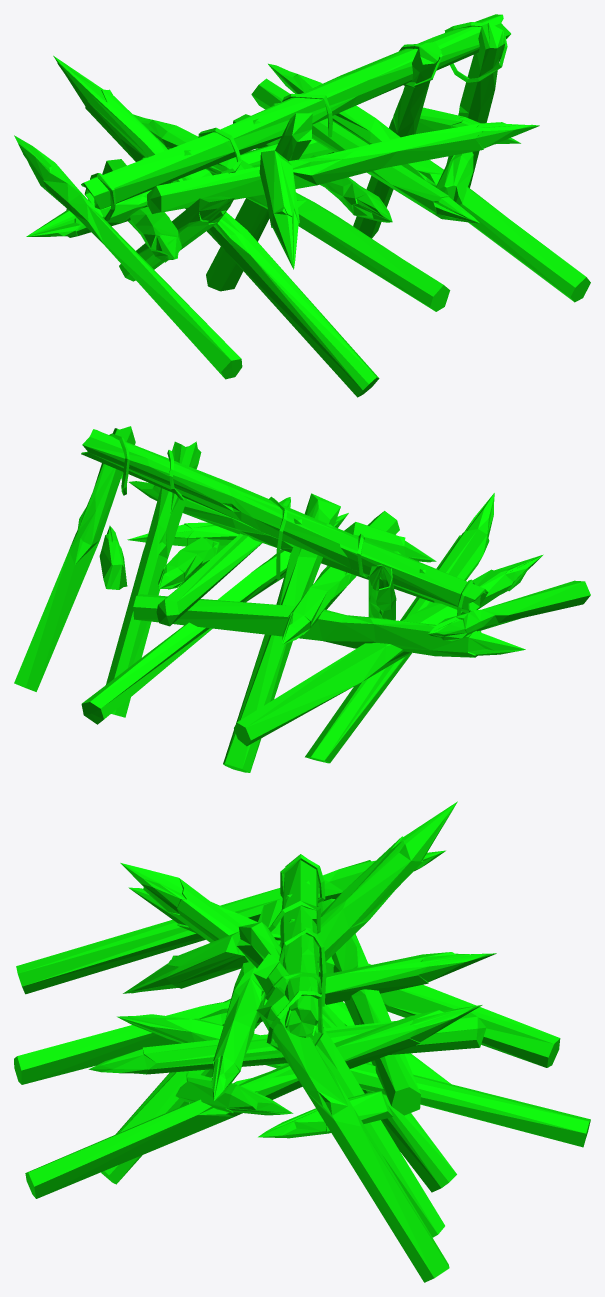
Rendered from SM_Barricade_A_Broken.fbx.
3 renders of one model, top to bottom at view 1: azimuth 30°, elevation 25°; view 2: azimuth 150°, elevation 25°; view 3: azimuth 270°, elevation 25°, orthographic. The views are drawn at different scales.
Parts seen in each view (by area): view 1: barricade-a-broken; view 2: barricade-a-broken; view 3: barricade-a-broken.
Boxes of the visible parts, <box> form: barricade-a-broken: <box>14,14,590,397</box>; barricade-a-broken: <box>14,426,590,772</box>; barricade-a-broken: <box>14,801,590,1282</box>.
Size of the model in its own units: 3.37 by 1.78 by 3.06.
